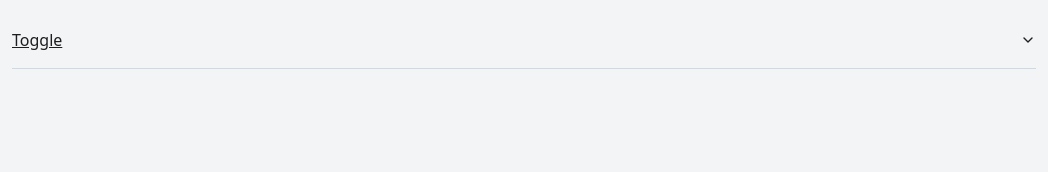
Test: Accordion › Interactions › expands content on trigger click
The image size is (1048, 172).
Click the button "Toggle".
click(37, 40)  # box [12,12,1036,68]
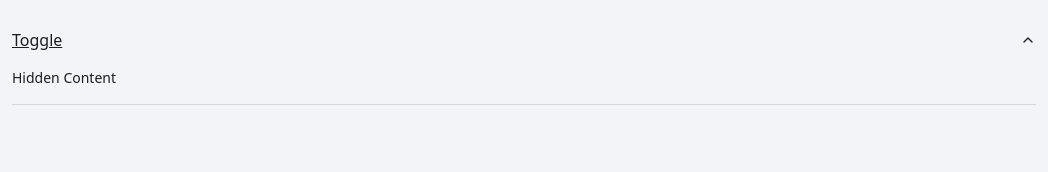
Result: the button "Toggle" has attribute data-state="open" at [12,12,1036,68]
